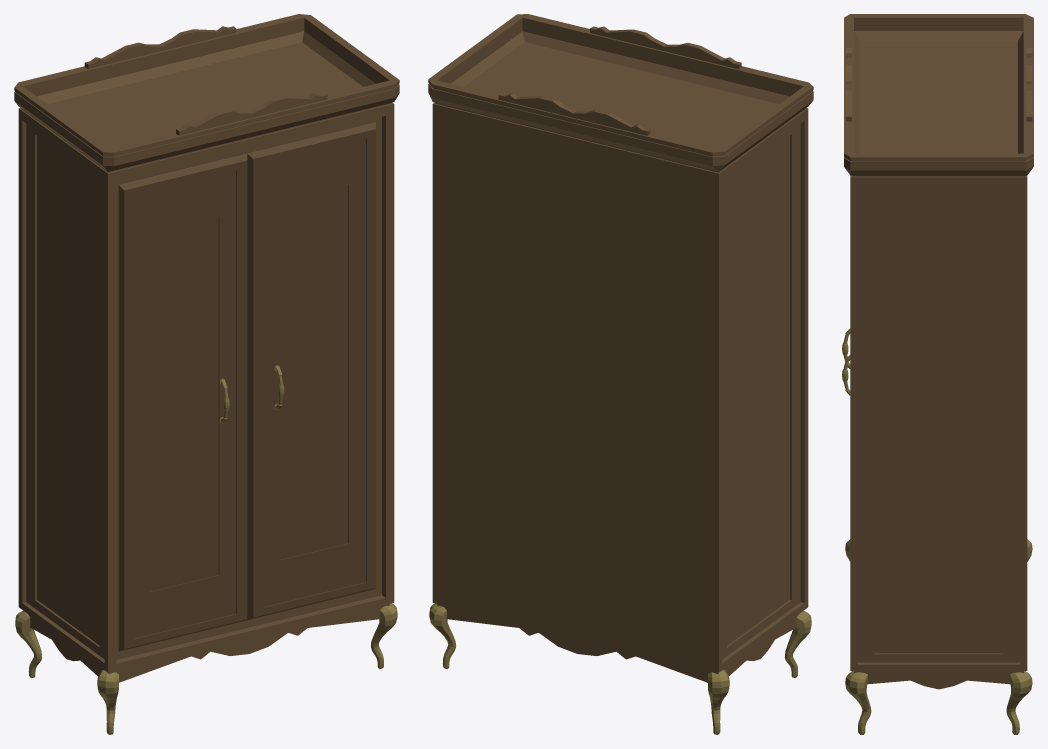
3 renders of one model, left to right at view 1: azimuth 30°, elevation 25°; view 2: azimuth 150°, elevation 25°; view 3: azimuth 270°, elevation 25°, orthographic.
Parts seen in each view (by area): view 1: Closet_Cube, Closet_LeftDoor_Cube.007, Closet_RightDoor_Cube.006; view 2: Closet_Cube; view 3: Closet_Cube.
Boxes of the visible parts, x1,y1,x2,y2 form: Closet_Cube: (14,14,399,734); Closet_LeftDoor_Cube.007: (118,153,247,651); Closet_RightDoor_Cube.006: (247,122,375,620); Closet_Cube: (428,14,813,734); Closet_Cube: (844,14,1033,734).
Bounding box in the file's own units: 1.55 × 2.98 × 0.87.
